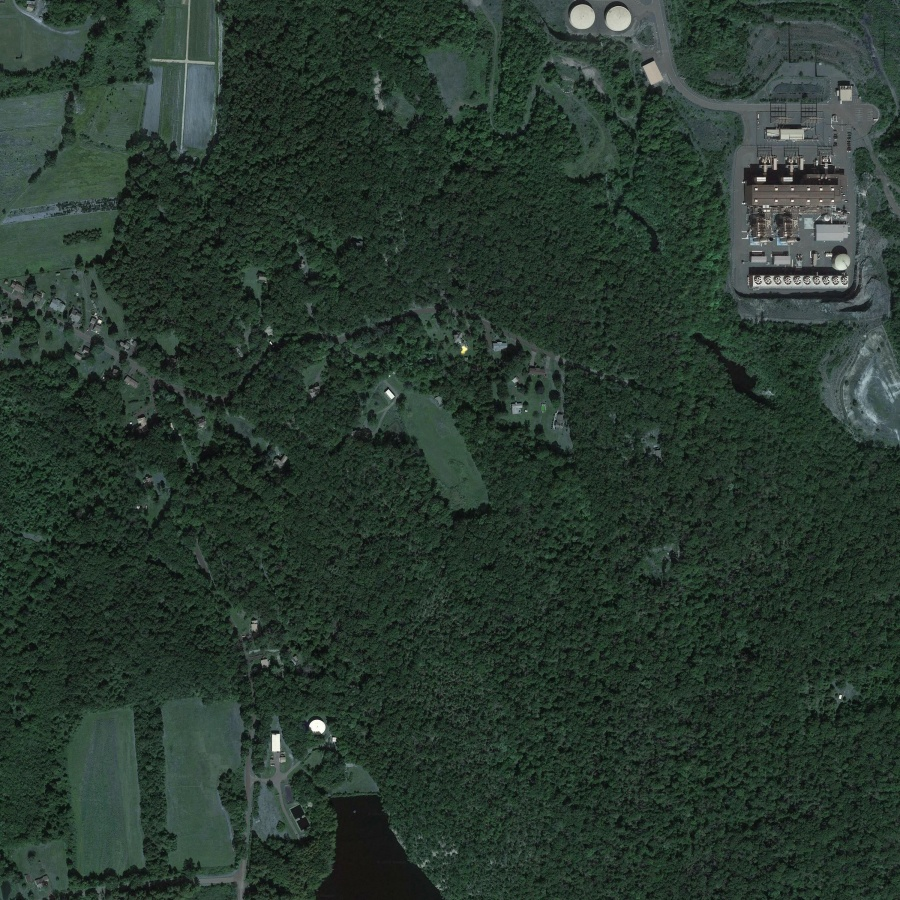PowerPlant: (735, 65, 881, 305)
